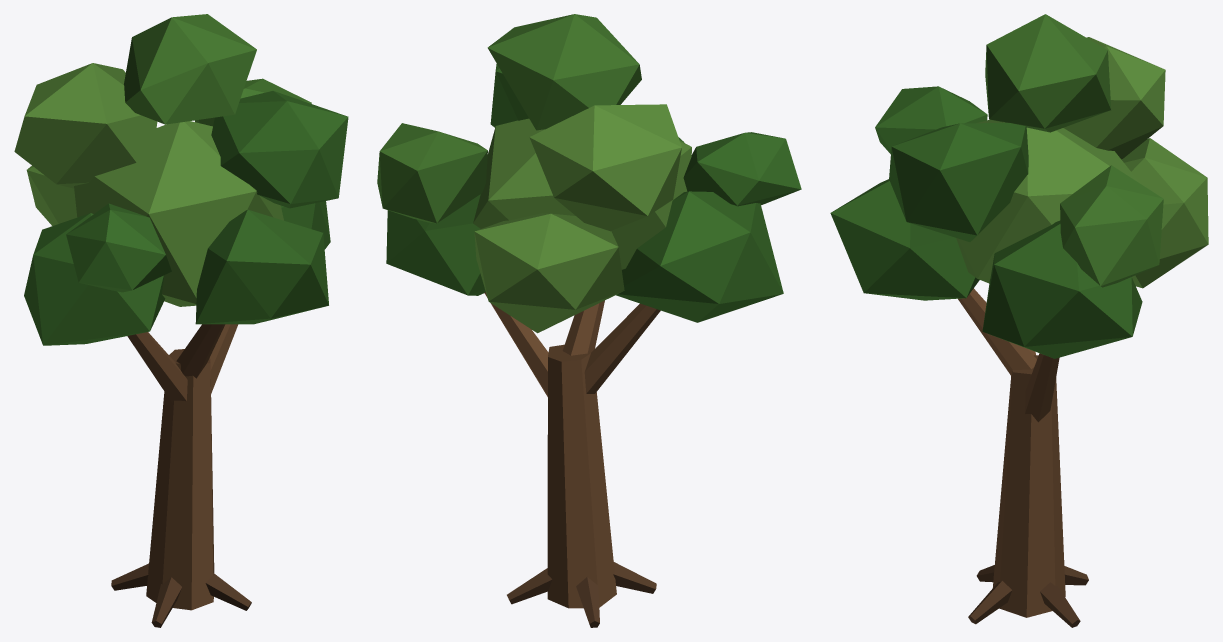
Rendered from oak_1.glb.
The picture shows the model from 3 angles, left to right: view 1: azimuth 30°, elevation 25°; view 2: azimuth 150°, elevation 25°; view 3: azimuth 270°, elevation 25°; orthographic projection. The views are drawn at different scales.
Visible parts, largest first — view 1: Oak1; view 2: Oak1; view 3: Oak1.
Boxes of the visible parts, x1,y1,x2,y2 form: Oak1: (14, 14, 348, 627); Oak1: (377, 14, 801, 627); Oak1: (830, 14, 1208, 627).
Size of the model in its own units: 1.7 by 2.85 by 1.64.
